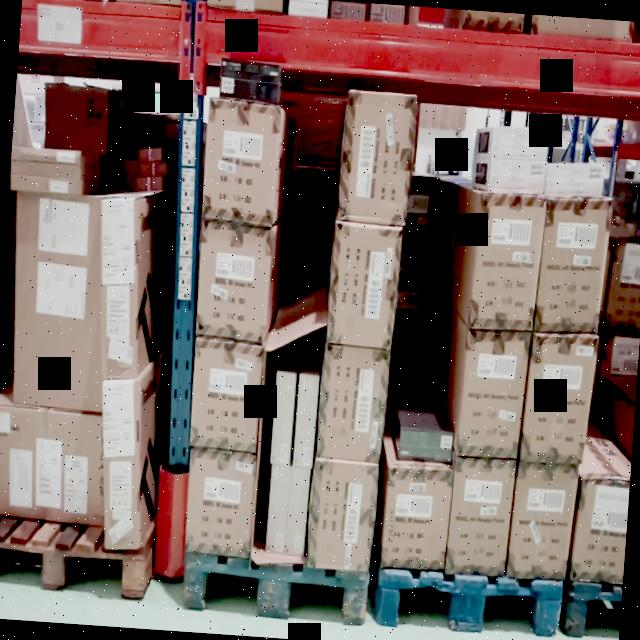box: (12, 194, 102, 410), (338, 92, 416, 222), (538, 195, 606, 332), (195, 218, 270, 342), (203, 103, 280, 220), (474, 194, 540, 330), (328, 223, 398, 349), (318, 346, 390, 461), (460, 328, 525, 455), (526, 334, 589, 464), (508, 462, 574, 578), (448, 456, 514, 572), (308, 462, 378, 570), (184, 448, 255, 554), (190, 342, 260, 448), (382, 466, 452, 568), (220, 59, 278, 102), (271, 373, 296, 463), (294, 374, 318, 466), (285, 466, 309, 556), (488, 158, 546, 194), (267, 467, 289, 553), (400, 428, 452, 461), (491, 127, 546, 158), (10, 144, 80, 166), (548, 165, 602, 193), (10, 174, 80, 194), (12, 161, 80, 178)
